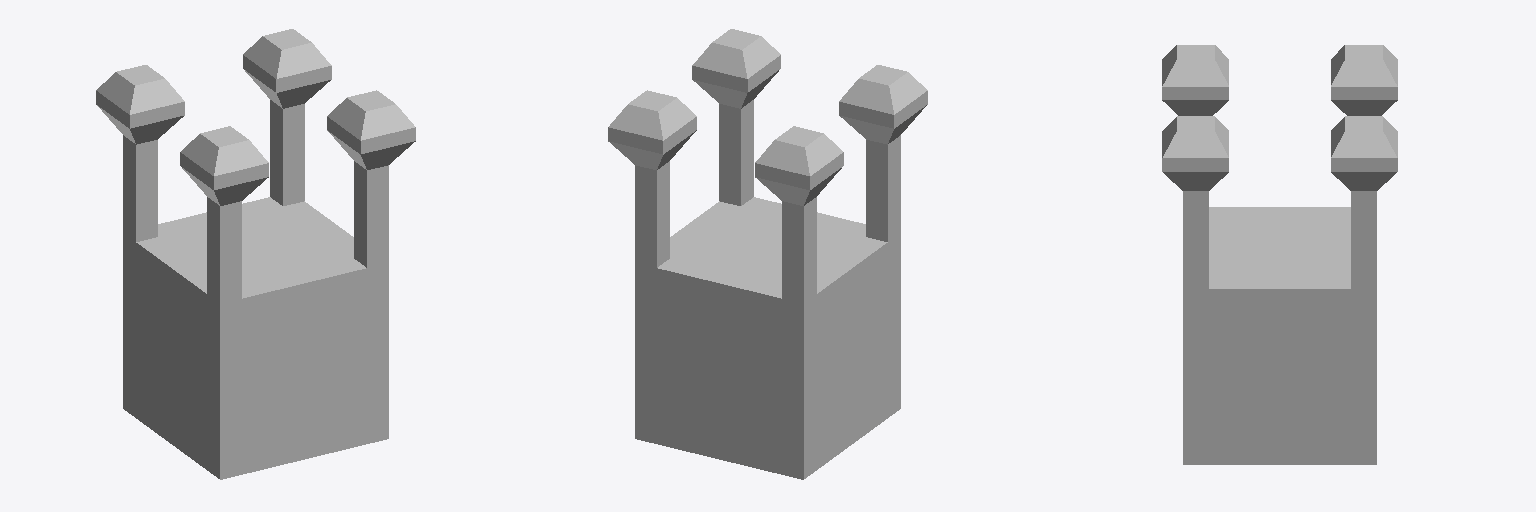
The model's file is block_3.obj.
The picture shows the model from 3 angles: view 1: azimuth 30°, elevation 25°; view 2: azimuth 150°, elevation 25°; view 3: azimuth 270°, elevation 25°; orthographic projection.
Parts seen in each view (by area): view 1: Cube.002; view 2: Cube.002; view 3: Cube.002.
Part boxes in pixels (x1,y1,x2,y2): Cube.002: (96, 29, 415, 479); Cube.002: (608, 29, 927, 479); Cube.002: (1162, 45, 1397, 464).
Size of the model in its own units: 2.4 by 3.81 by 2.42.